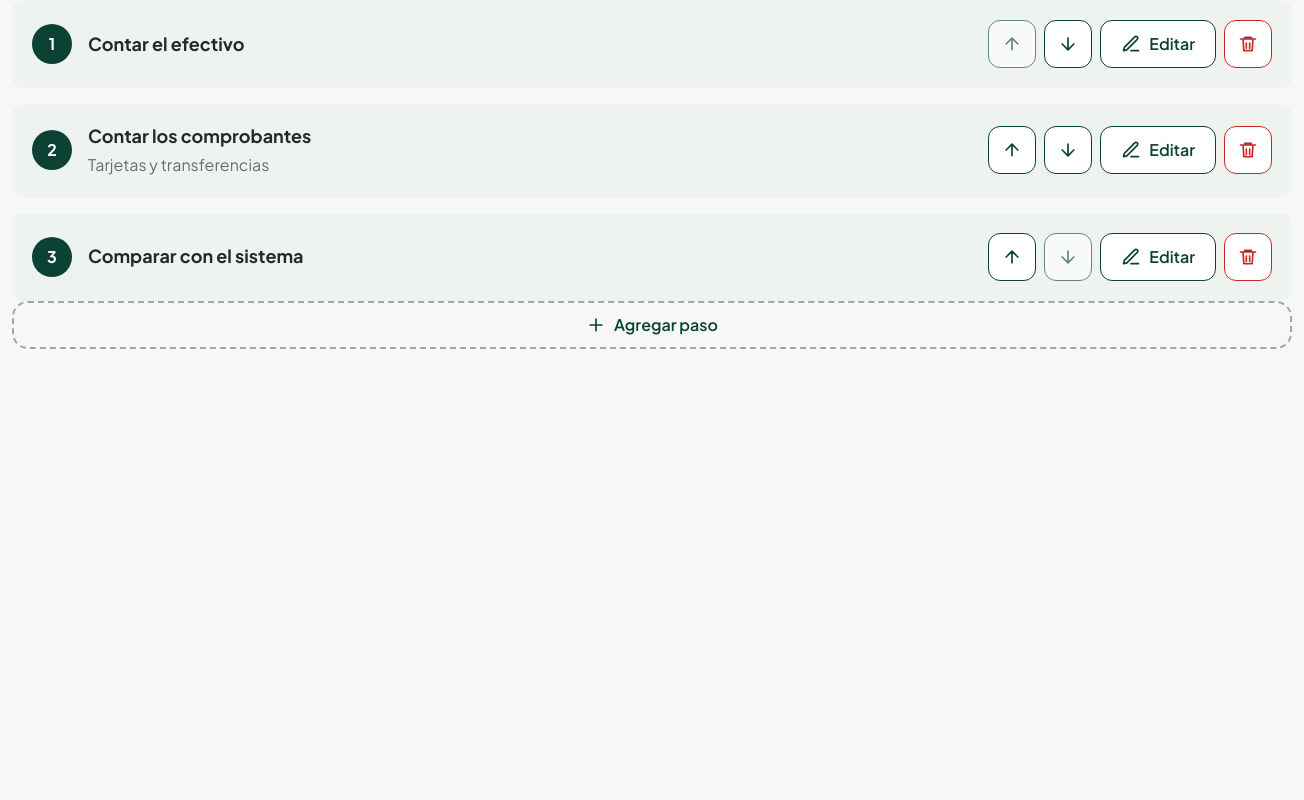
Scenario: the list › "Agregar paso" has a dashed border and opens the form of the step (E28)
The width and height of the screenshot is (1304, 800).
Check: the form "Agregar un paso" is not shown
What coordinates should you click on to do the following:
click the button "Agregar paso"
I would click on:
 (652, 325)
Its box is x1=12 y1=301 x2=1292 y2=349.
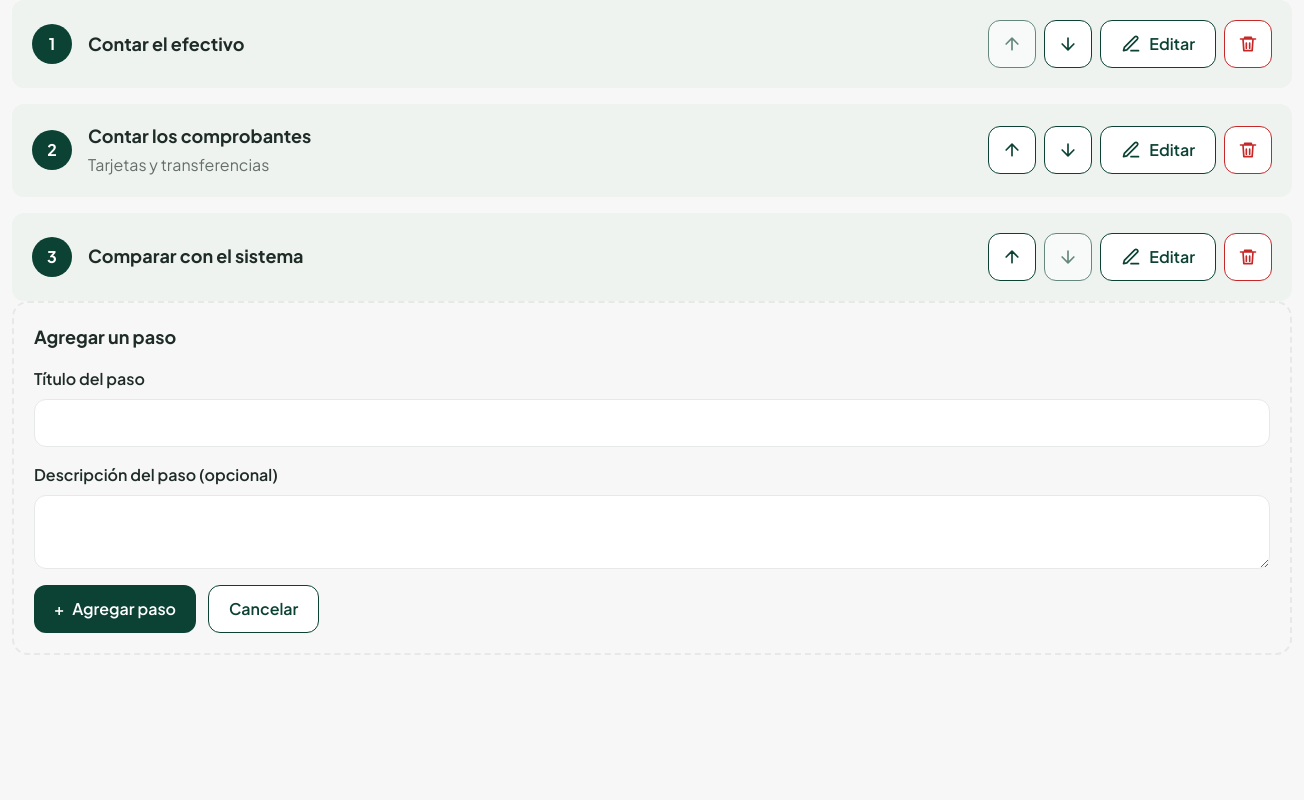
Check: the form "Agregar un paso" is shown, box x1=12 y1=301 x2=1292 y2=655
